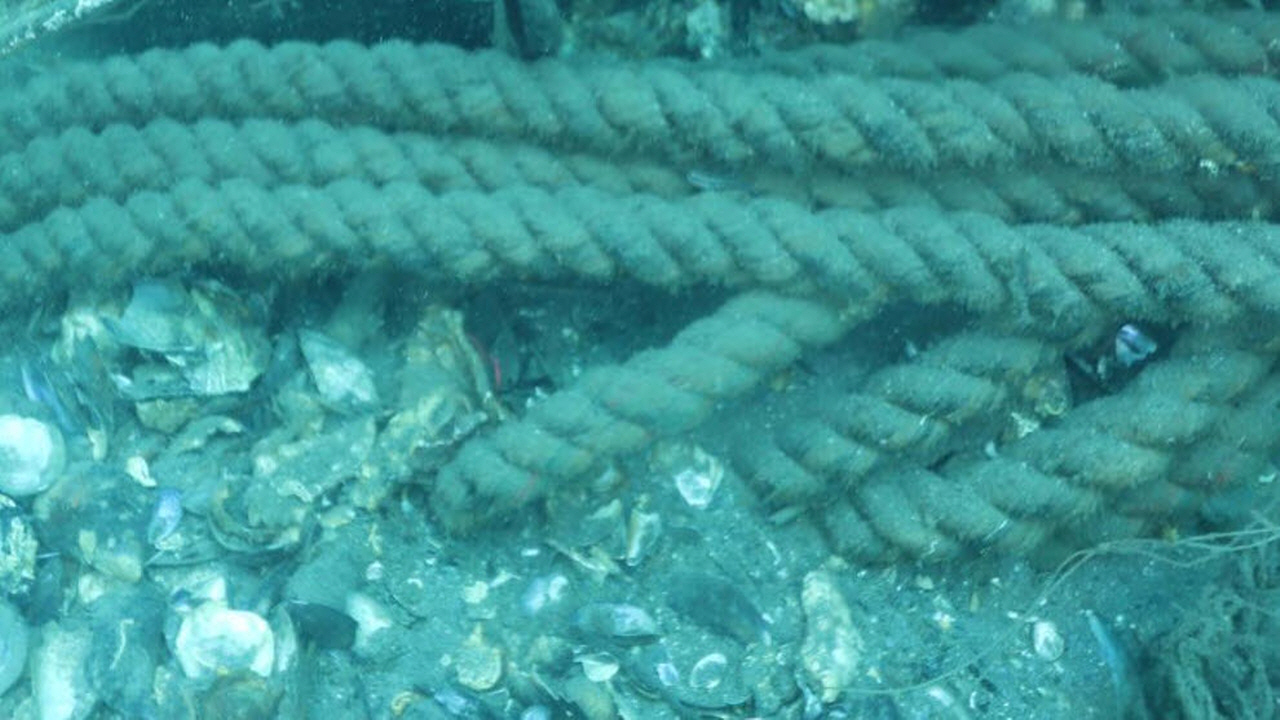bundle of ropes: (0, 4, 1274, 568)
